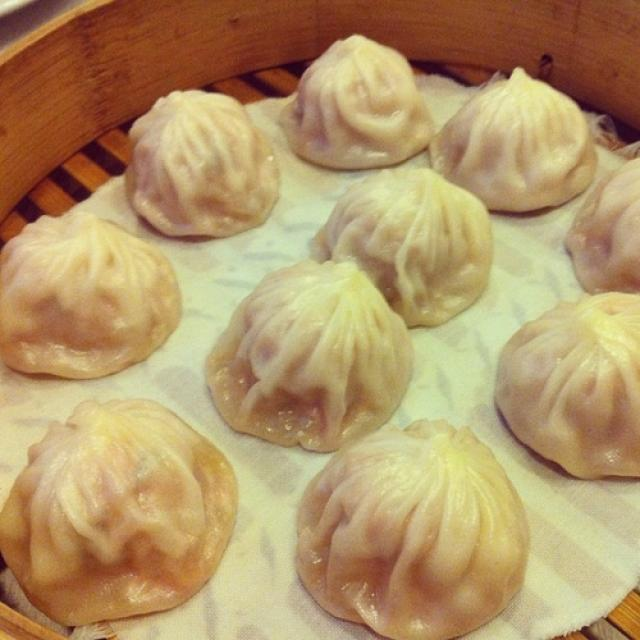带馅早点: (18, 18, 621, 610)
